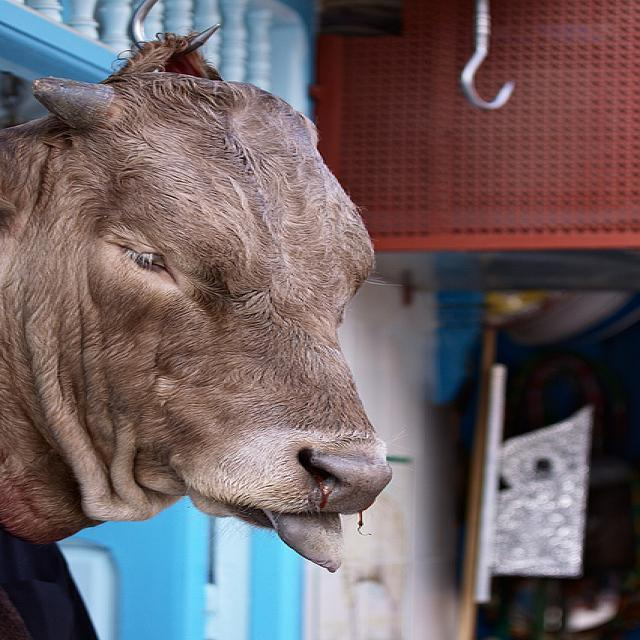cow: (0, 0, 395, 572)
